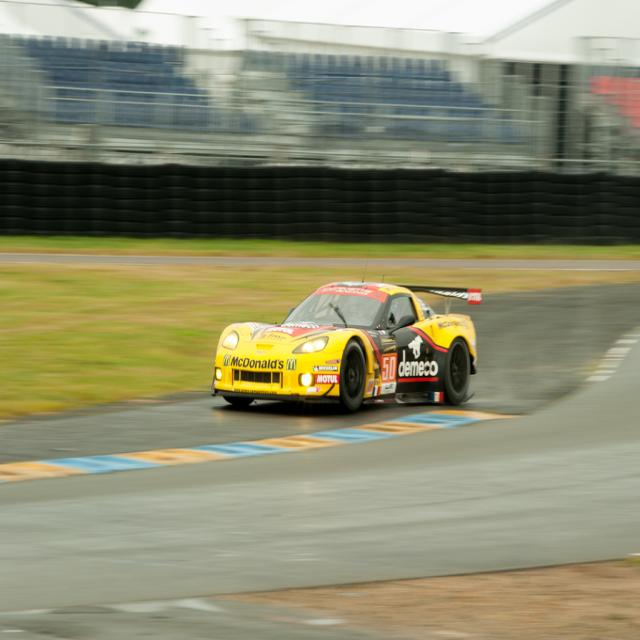car: (211, 261, 480, 413)
